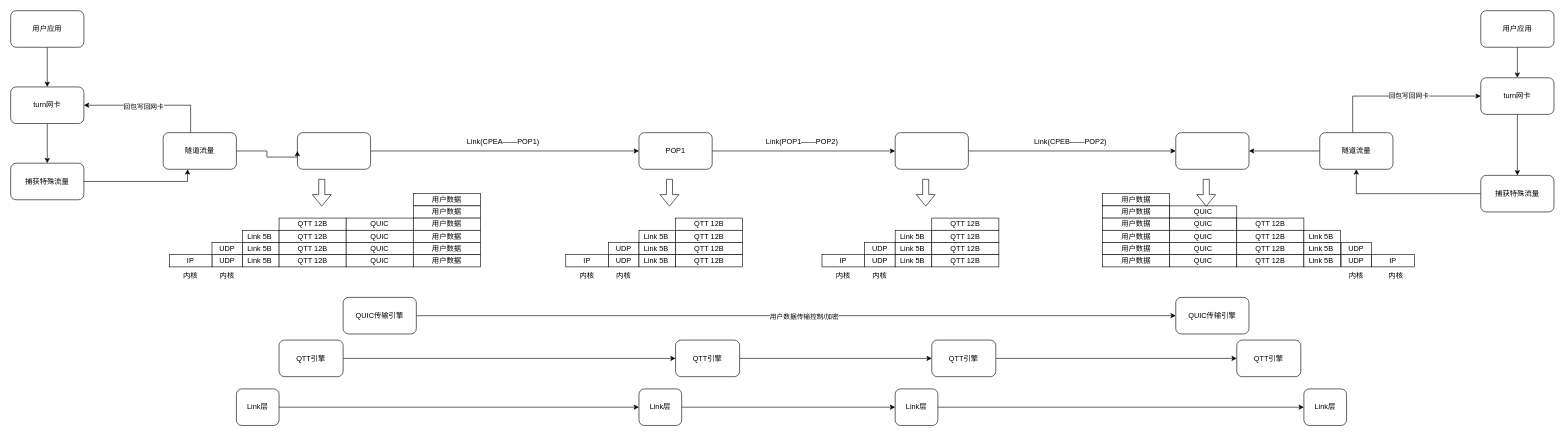
Image size: 1565x436. Some labels were removed from this diagram. The centre of each missing label's shape, as x and y in pixels:
"CPE2" belongs at (x=1212, y=150).
"CPEA" belongs at (x=334, y=150).
"POP2" belongs at (x=931, y=150).
